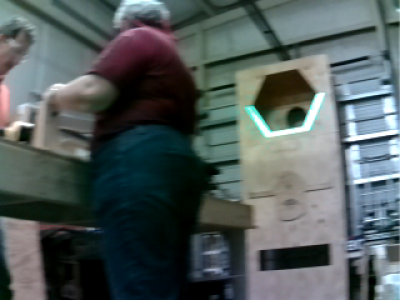target: (244, 92, 327, 139)
